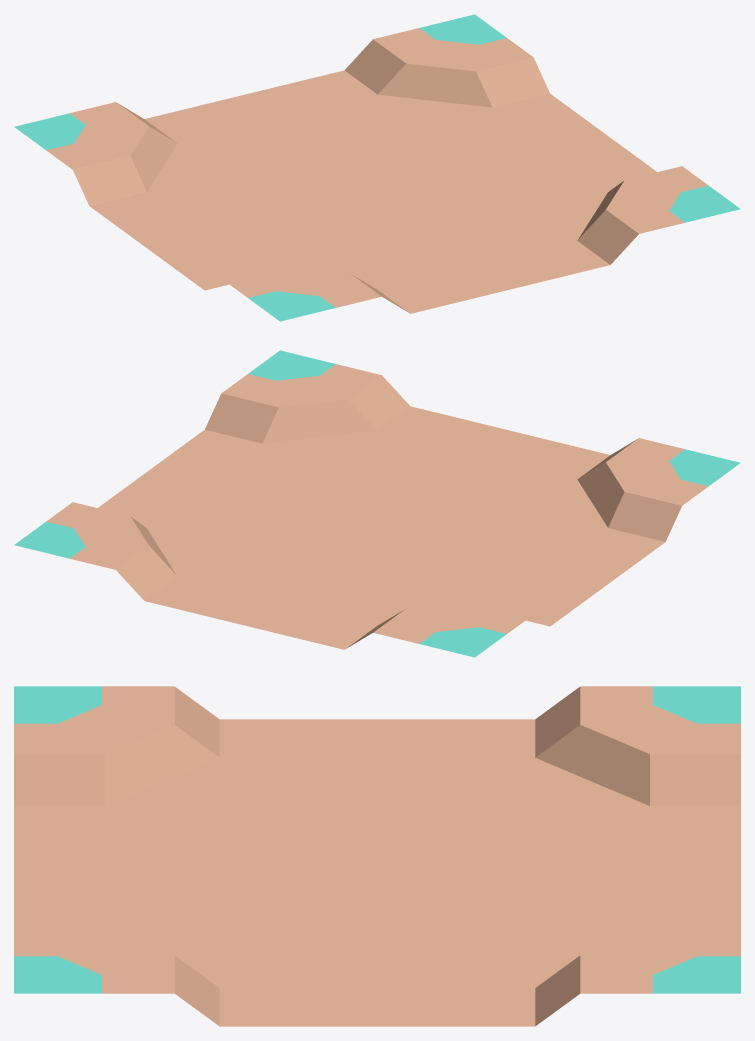
The picture shows the model from 3 angles, top to bottom: view 1: azimuth 30°, elevation 25°; view 2: azimuth 150°, elevation 25°; view 3: azimuth 270°, elevation 25°; orthographic projection. The views are drawn at different scales.
Parts seen in each view (by area): view 1: ground_pathCross; view 2: ground_pathCross; view 3: ground_pathCross.
Part boxes in pixels (left/top/right/bottom): ground_pathCross: left=14, top=14, right=740, bottom=321; ground_pathCross: left=14, top=350, right=740, bottom=657; ground_pathCross: left=14, top=686, right=740, bottom=1026.
Bounding box in the file's own units: 1 × 0.05 × 1.
